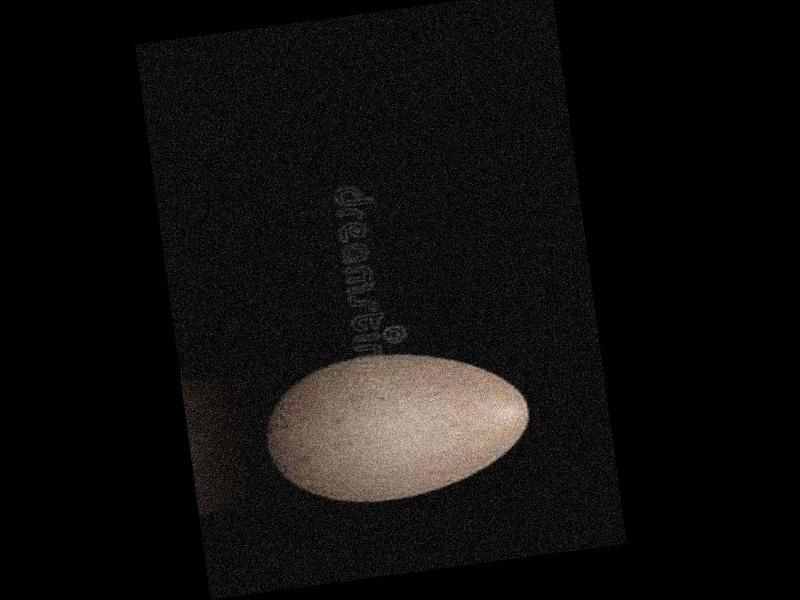Eggs: (257, 337, 539, 515)
